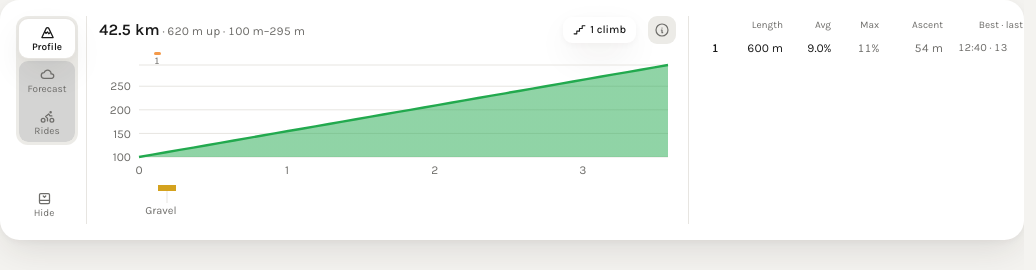
Scenario: RouteDock › offers a rides stop only for a route somebody has ridden
The width and height of the screenshot is (1036, 270).
Click the tab "Rides": point(47, 122) [19,103,75,142]
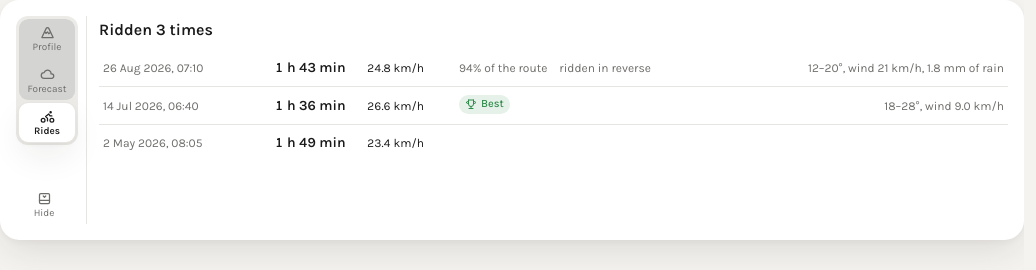
Check: the number of links is 3, box [99,50,1008,87]; [99,87,1008,125]; [103,134,424,151]
